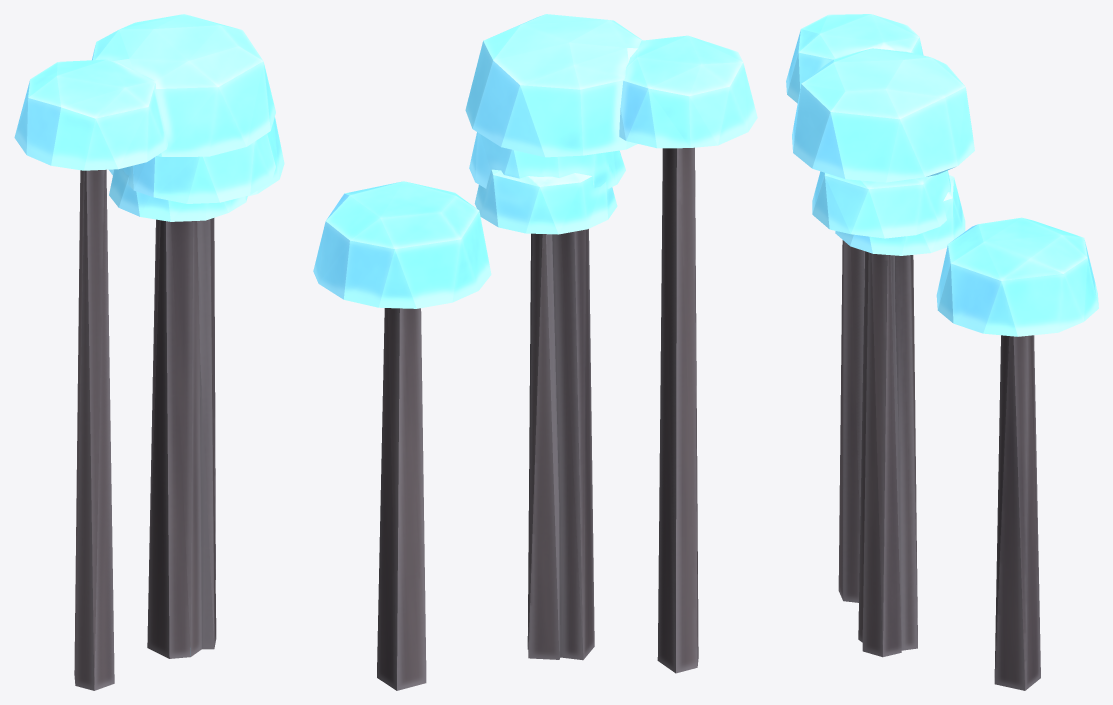
The model's file is underworld-flora-fungal-lantern-caps.glb.
The picture shows the model from 3 angles, left to right: view 1: azimuth 30°, elevation 25°; view 2: azimuth 150°, elevation 25°; view 3: azimuth 270°, elevation 25°; orthographic projection. The views are drawn at different scales.
Visible parts, largest first — view 1: stalks, caps; view 2: stalks, caps; view 3: caps, stalks.
Boxes of the visible parts, x1,y1,x2,y2 form: stalks: (74,169,216,690); caps: (14,14,284,221); stalks: (377,147,698,690); caps: (313,14,757,308); caps: (786,14,1098,336); stalks: (838,240,1040,690).
Bounding box in the file's own units: 0.28 × 0.4925 × 0.2434.
2 materials, 2 textured.
